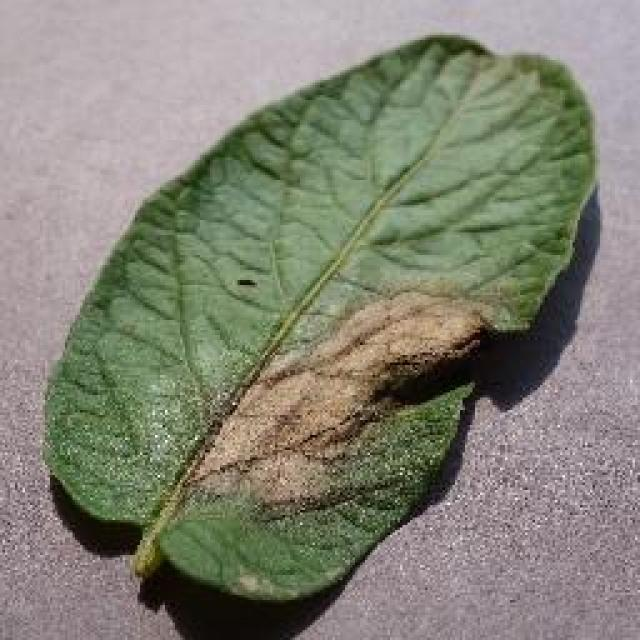late_blight: (38, 28, 602, 608)
